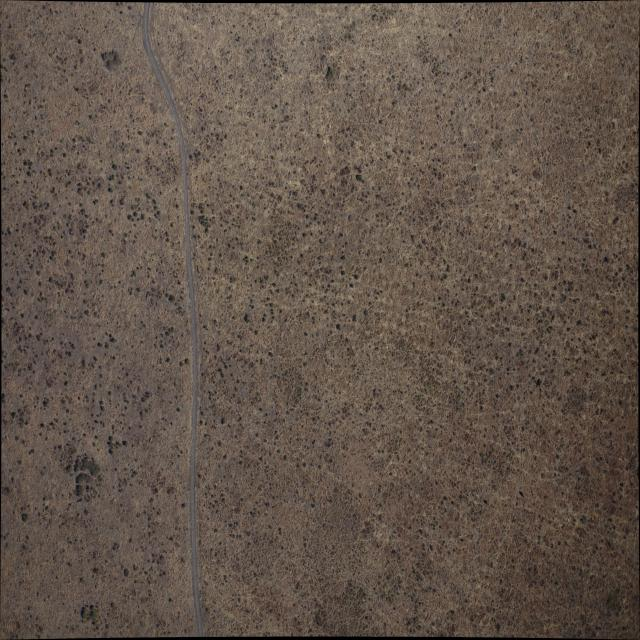elephant: (539, 380, 543, 387), (486, 500, 490, 506), (521, 492, 525, 497), (462, 538, 465, 544)
